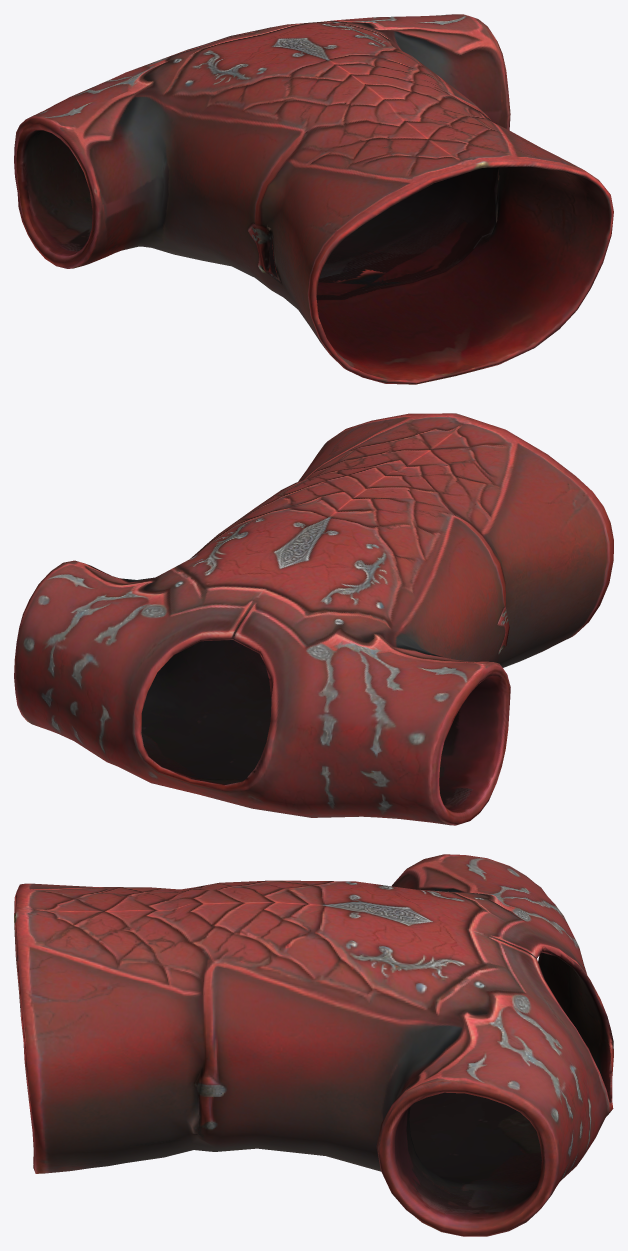
The model's file is chainbody-dragon.glb.
The picture shows the model from 3 angles, top to bottom: view 1: azimuth 30°, elevation 25°; view 2: azimuth 150°, elevation 25°; view 3: azimuth 270°, elevation 25°; orthographic projection. The views are drawn at different scales.
Visible parts, largest first — view 1: Mesh_0; view 2: Mesh_0; view 3: Mesh_0.
Boxes of the visible parts, bbox=[...] form: Mesh_0: bbox=[14, 14, 613, 384]; Mesh_0: bbox=[14, 413, 613, 825]; Mesh_0: bbox=[14, 854, 613, 1236].
Size of the model in its own units: 2.72 by 1.33 by 2.99.
Materials: 1 (1 with a texture image).
